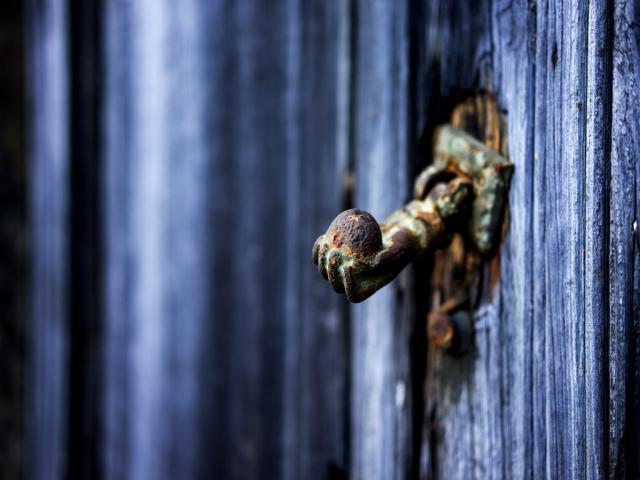Door-handle: (312, 88, 514, 354)
